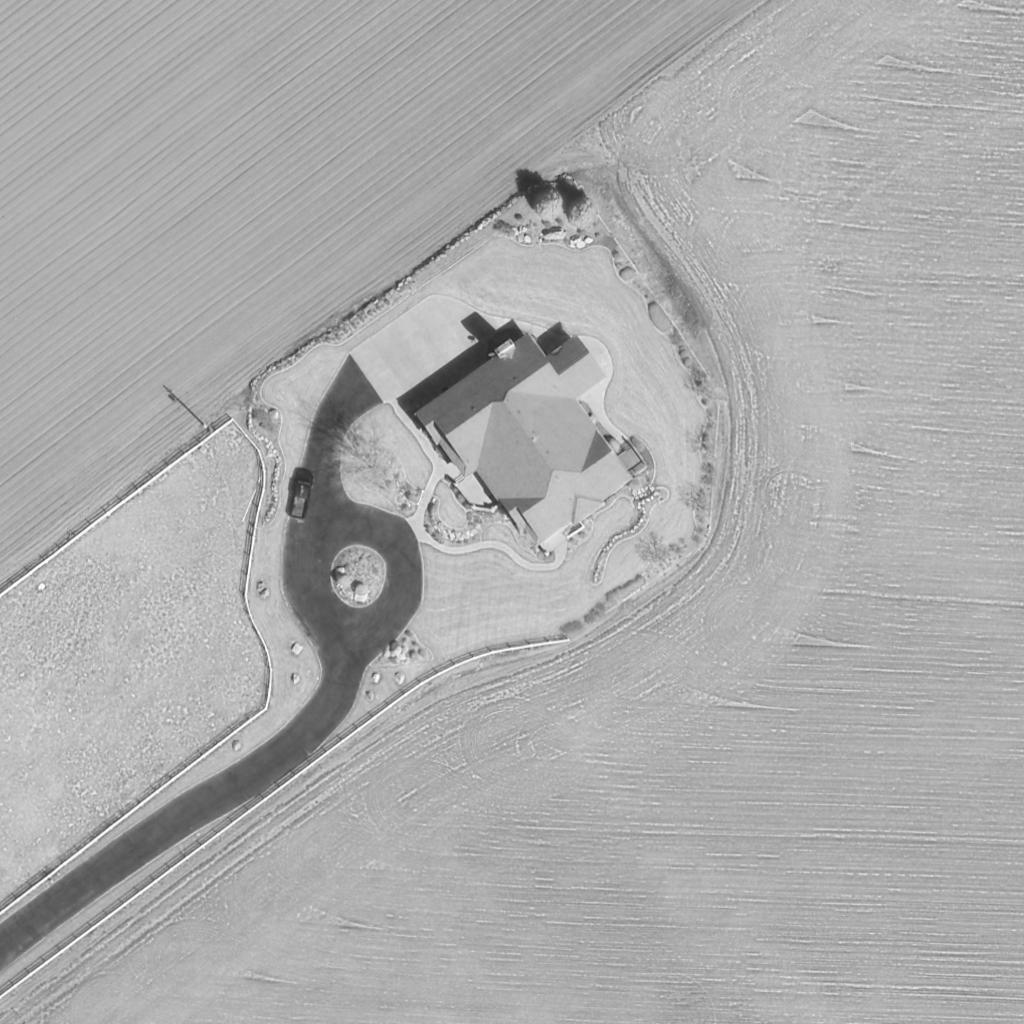vehicle: (287, 470, 315, 522)
